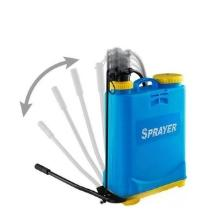PULVERISATEUR: (15, 39, 212, 206)
